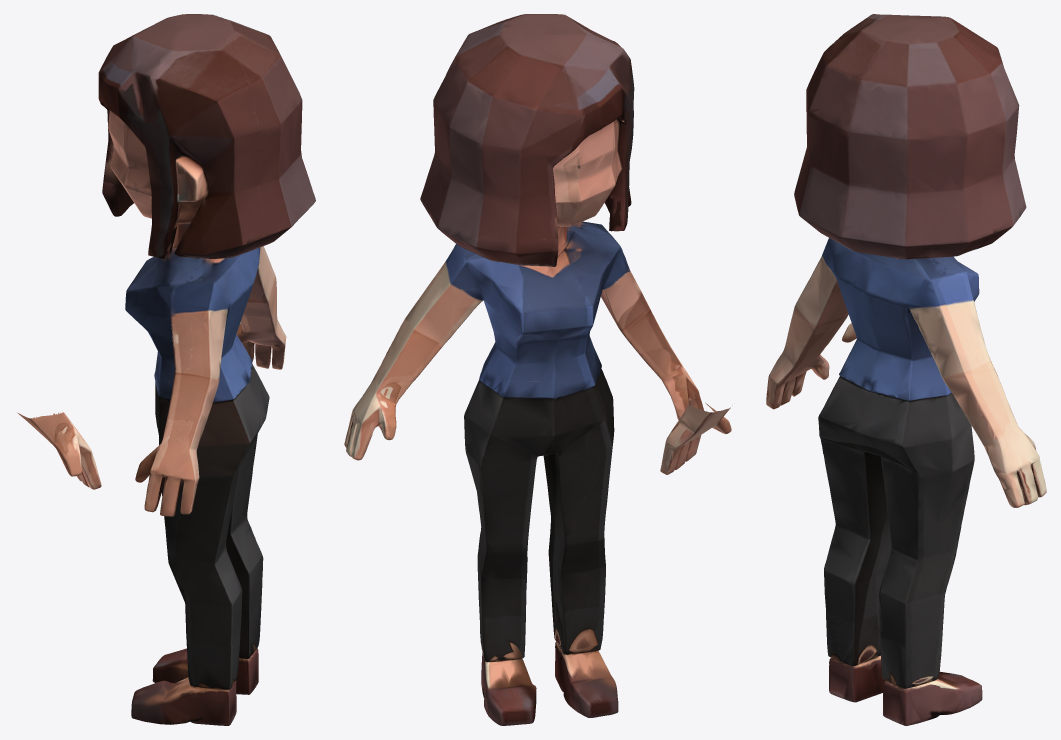
File: hitem3d-avatar-female-split.glb
3 renders of one model, left to right at view 1: azimuth 30°, elevation 25°; view 2: azimuth 150°, elevation 25°; view 3: azimuth 270°, elevation 25°, orthographic.
Parts seen in each view (by area): view 1: tmps2zsvumiobj; view 2: tmps2zsvumiobj; view 3: tmps2zsvumiobj.
Part boxes in pixels (box(x1,y1,x2,y2)): tmps2zsvumiobj: box(17, 14, 315, 725); tmps2zsvumiobj: box(344, 14, 732, 725); tmps2zsvumiobj: box(766, 14, 1046, 725).
Size of the model in its own units: 0.5112 by 0.9994 by 0.3788.
1 material, 1 textured.
